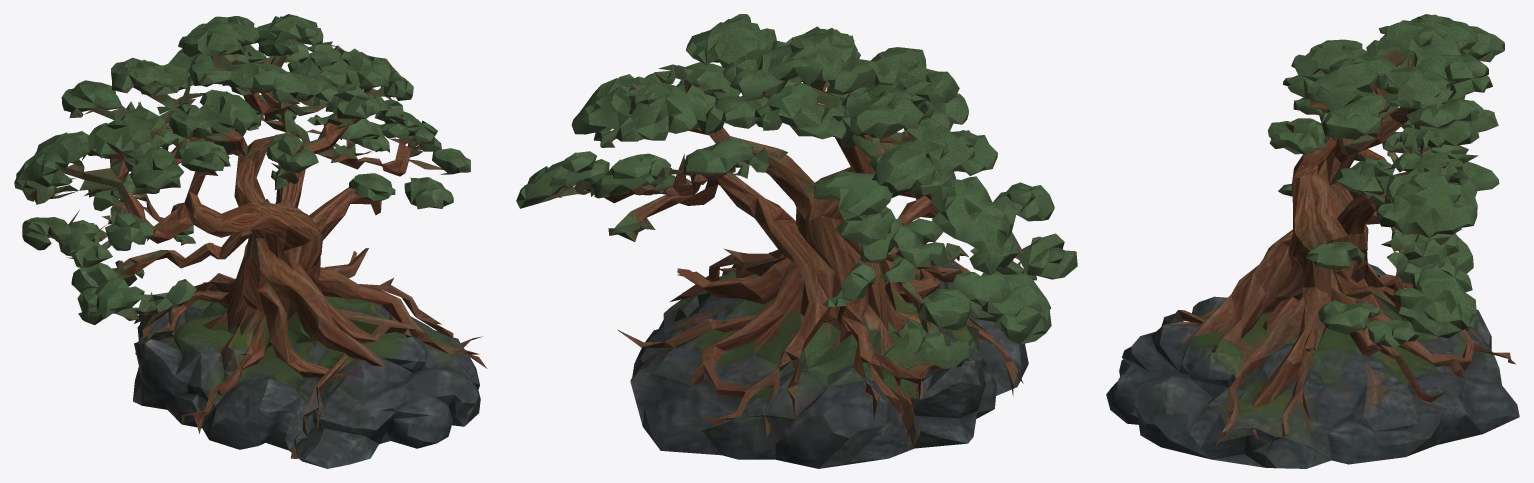
File: tree_pine.glb
3 views of the same model, side by side, from view 1: azimuth 30°, elevation 25°; view 2: azimuth 150°, elevation 25°; view 3: azimuth 270°, elevation 25° (orthographic). The views are drawn at different scales.
Size of the model in its own units: 1.89 by 1.36 by 1.46.
1 material, 1 textured.
